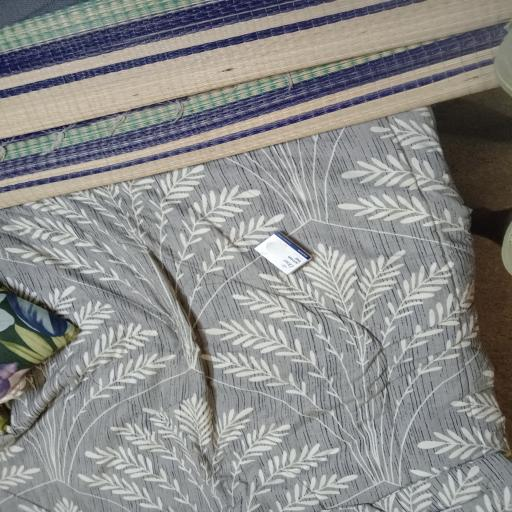Dove`1: (254, 224, 315, 281)
